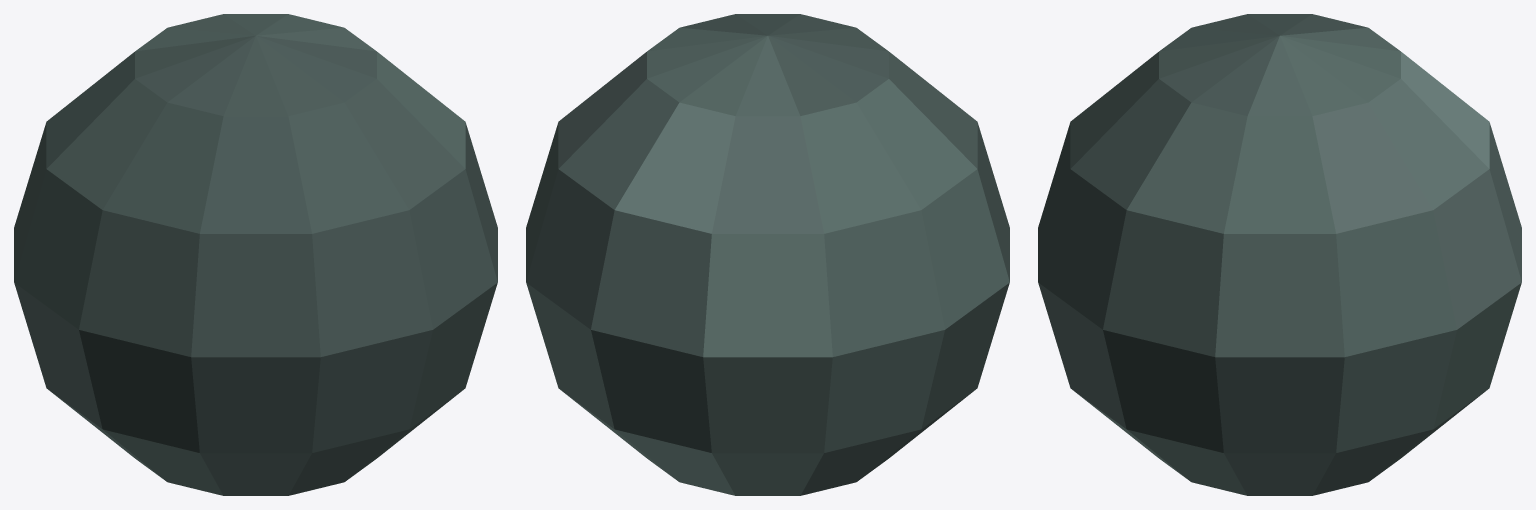
File: cannonball.gltf
3 views of the same model, side by side, from view 1: azimuth 30°, elevation 25°; view 2: azimuth 150°, elevation 25°; view 3: azimuth 270°, elevation 25° (orthographic).
Visible parts, largest first — view 1: sphere; view 2: sphere; view 3: sphere.
Part boxes in pixels (box(x1,y1,x2,y2)): sphere: box(14, 14, 497, 495); sphere: box(526, 14, 1009, 495); sphere: box(1038, 14, 1521, 495).
Bounding box in the file's own units: 0.1875 × 0.1875 × 0.1875.
1 material, 1 textured.
